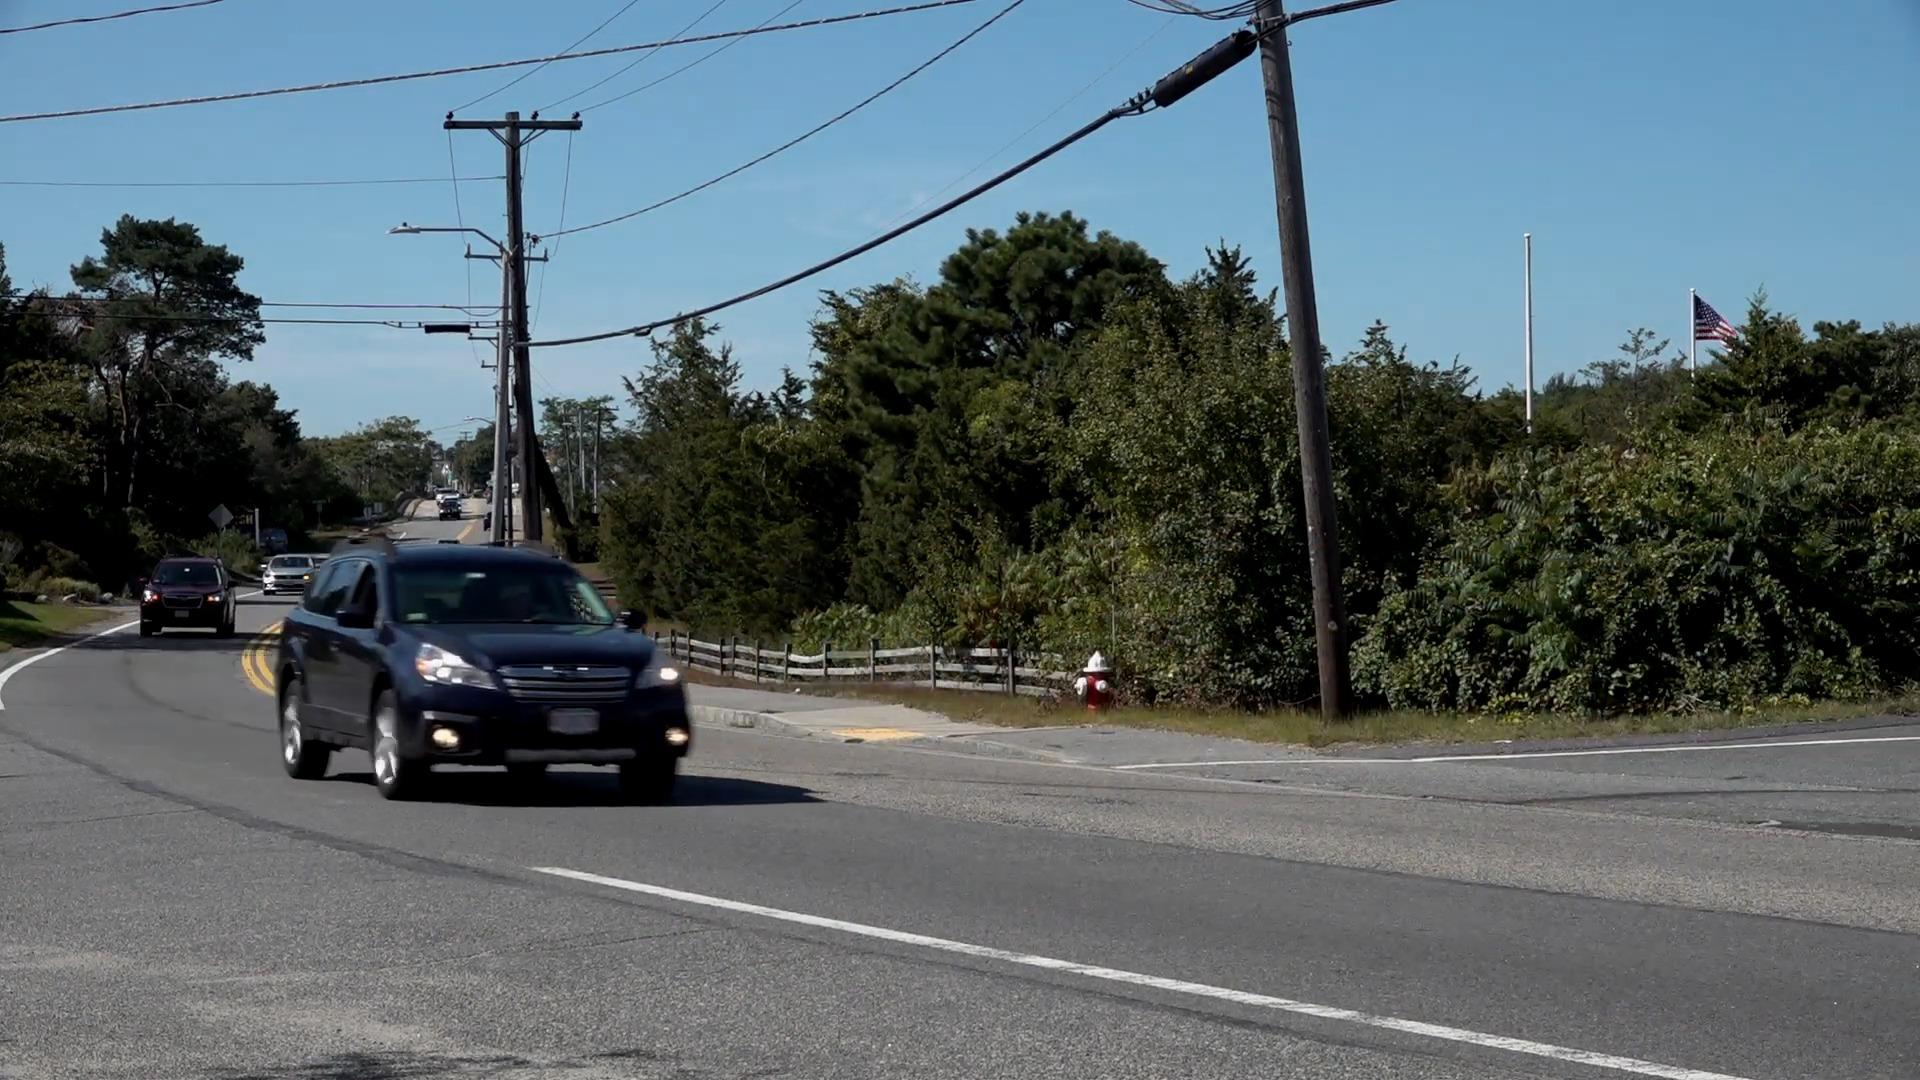suv: (276, 542, 695, 810), (138, 558, 236, 638)
